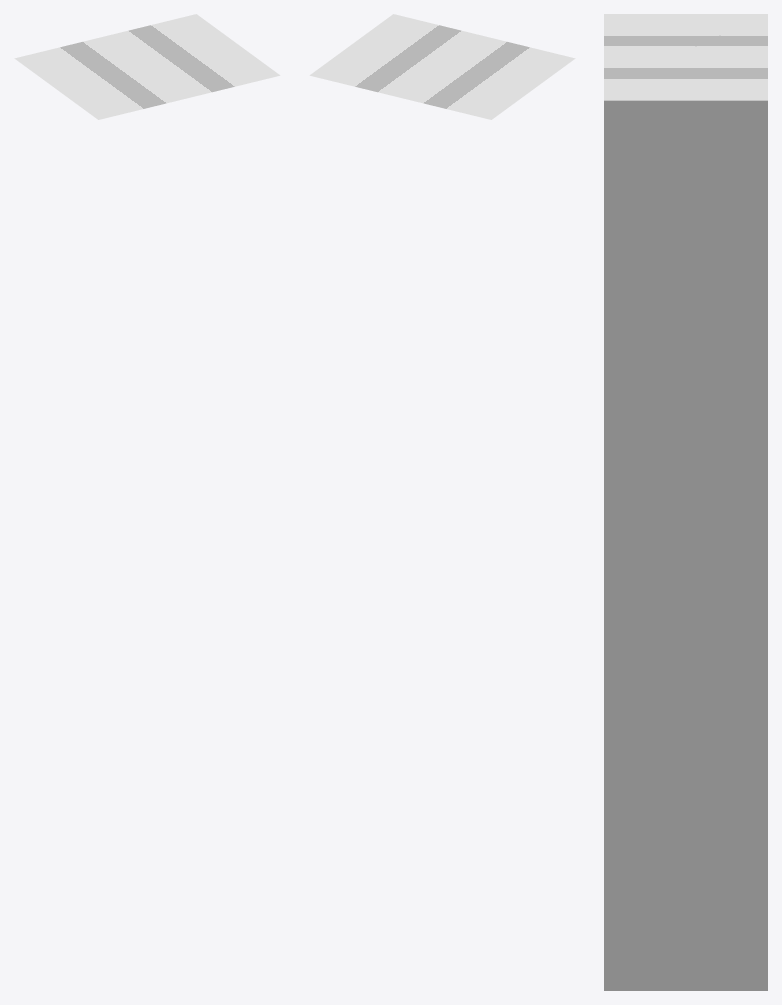
3 views of the same model, side by side, from view 1: azimuth 30°, elevation 25°; view 2: azimuth 150°, elevation 25°; view 3: azimuth 270°, elevation 25° (orthographic). The views are drawn at different scales.
Size of the model in its own units: 0.625 by 3 by 0.5.
Materials: 2 (2 with a texture image).
